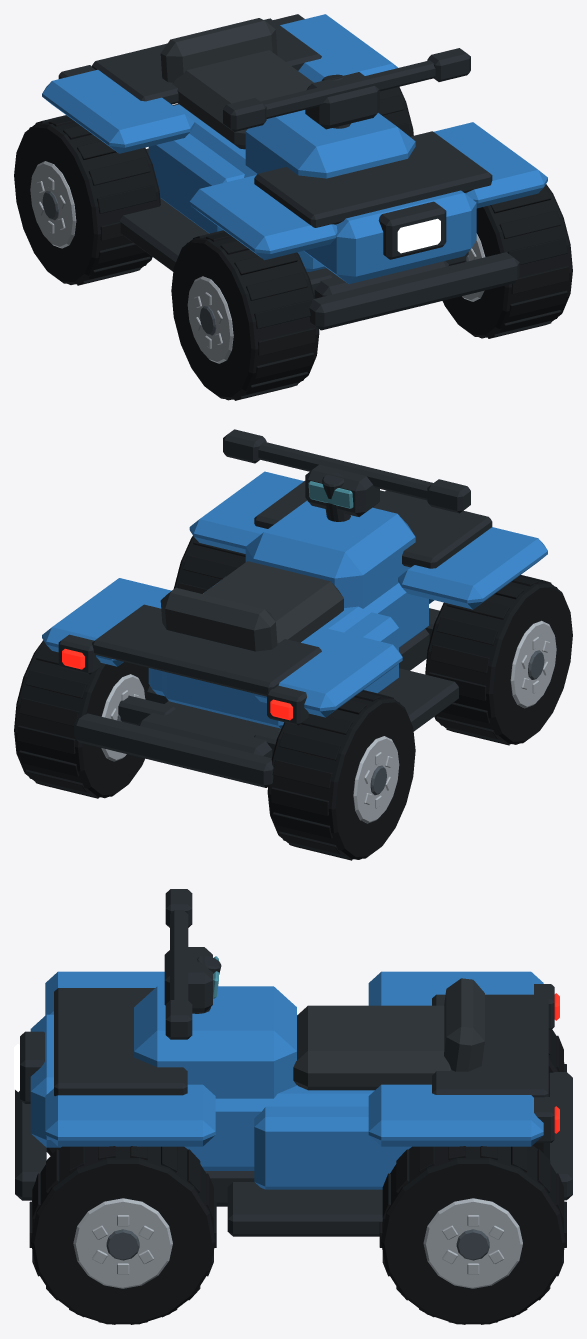
The model's file is ATV.glb.
3 views of the same model, one above another, from view 1: azimuth 30°, elevation 25°; view 2: azimuth 150°, elevation 25°; view 3: azimuth 270°, elevation 25° (orthographic). The views are drawn at different scales.
Parts seen in each view (by area): view 1: BodyPaint_Mesh, Trim_Mesh, Wheel_FL_Tire, Wheel_RL_Tire, Wheel_FR_Tire, Seat_Mesh, Wheel_FL_Hub, Wheel_RL_Hub, HeadlightGlow, Wheel_RR_Tire; view 2: Trim_Mesh, BodyPaint_Mesh, Wheel_RL_Tire, Wheel_FL_Tire, Wheel_RR_Tire, Seat_Mesh, Wheel_FL_Hub, Wheel_RL_Hub, Wheel_FR_Tire, Wheel_RR_Hub, DashboardScreen_Mesh; view 3: BodyPaint_Mesh, Trim_Mesh, Wheel_FR_Tire, Wheel_RR_Tire, Seat_Mesh, Wheel_FR_Hub, Wheel_RR_Hub, Wheel_RL_Tire.
Boxes of the visible parts, x1,y1,x2,y2 form: BodyPaint_Mesh: (42, 14, 547, 284); Trim_Mesh: (58, 14, 519, 330); Wheel_FL_Tire: (171, 230, 319, 400); Wheel_RL_Tire: (14, 115, 160, 285); Wheel_FR_Tire: (442, 184, 572, 338); Seat_Mesh: (160, 18, 313, 149); Wheel_FL_Hub: (187, 276, 233, 363); Wheel_RL_Hub: (30, 161, 76, 248); HeadlightGlow: (397, 218, 440, 253); Wheel_RR_Tire: (378, 86, 413, 136); Trim_Mesh: (58, 429, 492, 787); BodyPaint_Mesh: (42, 471, 547, 728); Wheel_RL_Tire: (267, 690, 415, 860); Wheel_FL_Tire: (425, 575, 572, 745); Wheel_RR_Tire: (14, 640, 149, 798); Seat_Mesh: (160, 561, 343, 651); Wheel_FL_Hub: (510, 620, 556, 708); Wheel_RL_Hub: (353, 736, 399, 823); Wheel_FR_Tire: (173, 536, 245, 593); Wheel_RR_Hub: (101, 674, 145, 761); DashboardScreen_Mesh: (308, 481, 353, 508); BodyPaint_Mesh: (30, 971, 543, 1189); Trim_Mesh: (15, 889, 572, 1236); Wheel_FR_Tire: (29, 1146, 216, 1324); Wheel_RR_Tire: (379, 1145, 566, 1324); Seat_Mesh: (293, 978, 484, 1090); Wheel_FR_Hub: (73, 1198, 172, 1288); Wheel_RR_Hub: (423, 1198, 522, 1288); Wheel_RL_Tire: (533, 1029, 566, 1153).
Bounding box in the file's own units: 1.75 × 1.31 × 2.3.
